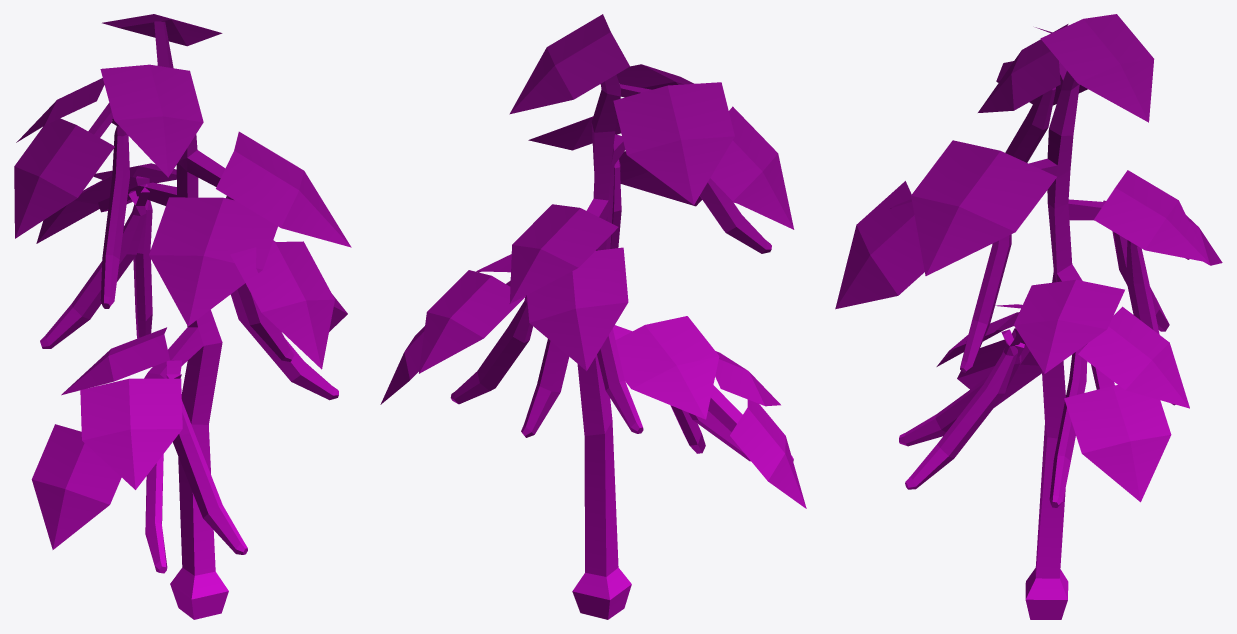
Rendered from SM_Prop_Plant_Bush_01_Bean.fbx.
The picture shows the model from 3 angles, left to right: view 1: azimuth 30°, elevation 25°; view 2: azimuth 150°, elevation 25°; view 3: azimuth 270°, elevation 25°; orthographic projection. The views are drawn at different scales.
Visible parts, largest first — view 1: SM_Prop_Plant_Bush_01_Bean; view 2: SM_Prop_Plant_Bush_01_Bean; view 3: SM_Prop_Plant_Bush_01_Bean.
Part boxes in pixels (x1,y1,x2,y2): SM_Prop_Plant_Bush_01_Bean: (14, 14, 351, 619); SM_Prop_Plant_Bush_01_Bean: (380, 14, 806, 619); SM_Prop_Plant_Bush_01_Bean: (835, 14, 1222, 619).
Size of the model in its own units: 62.71 by 98.88 by 59.72.
